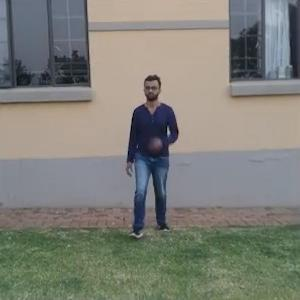follow: (126, 73, 176, 233)
